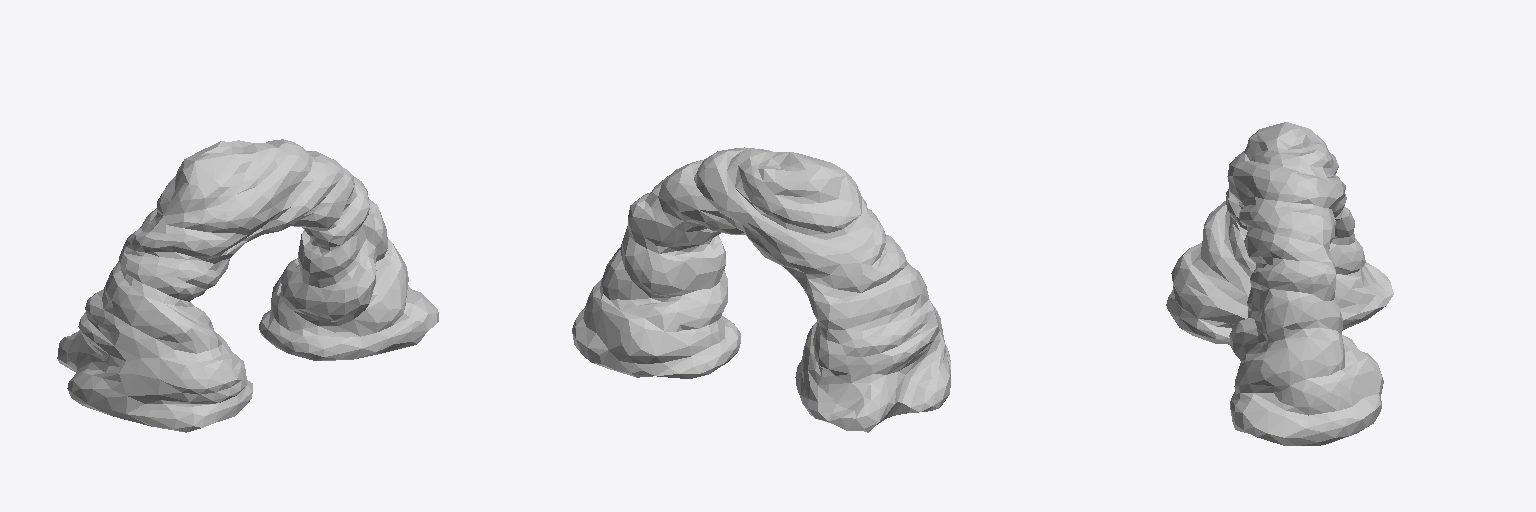
File: RockArch.obj
3 views of the same model, side by side, from view 1: azimuth 30°, elevation 25°; view 2: azimuth 150°, elevation 25°; view 3: azimuth 270°, elevation 25° (orthographic).
Parts seen in each view (by area): view 1: RockArch; view 2: RockArch; view 3: RockArch.
Part boxes in pixels (x1,y1,x2,y2): RockArch: (57, 139, 438, 432); RockArch: (572, 147, 950, 432); RockArch: (1166, 122, 1393, 445).
Bounding box in the file's own units: 4.99 × 2.88 × 2.75.